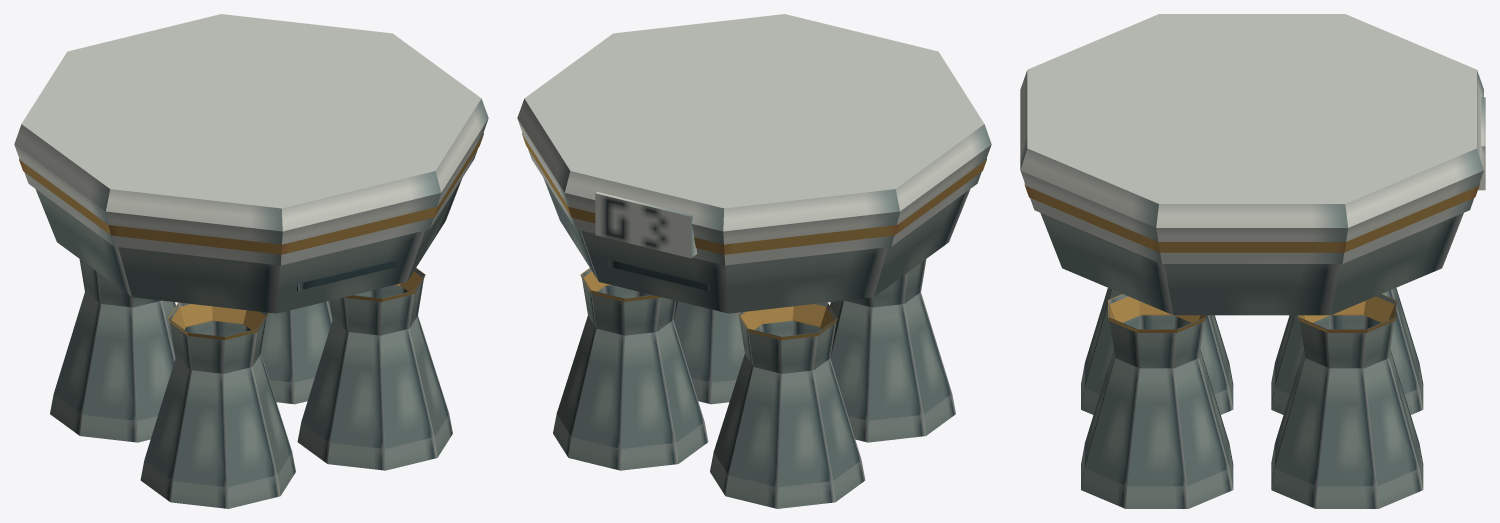
Rendered from rocket_engine_tier_3.obj.
The picture shows the model from 3 angles, left to right: view 1: azimuth 30°, elevation 25°; view 2: azimuth 150°, elevation 25°; view 3: azimuth 270°, elevation 25°; orthographic projection. The views are drawn at different scales.
Visible parts, largest first — view 1: Engine, Nozzle; view 2: Engine, Nozzle; view 3: Engine, Nozzle.
Part boxes in pixels (x1=…): Engine: x1=14, y1=14, x2=488, y2=313; Nozzle: x1=50, y1=259, x2=452, y2=508; Engine: x1=517, y1=14, x2=991, y2=313; Nozzle: x1=553, y1=259, x2=955, y2=508; Engine: x1=1020, y1=14, x2=1485, y2=315; Nozzle: x1=1081, y1=288, x2=1423, y2=508.
Size of the model in its own units: 1.25 by 0.975 by 1.25.
